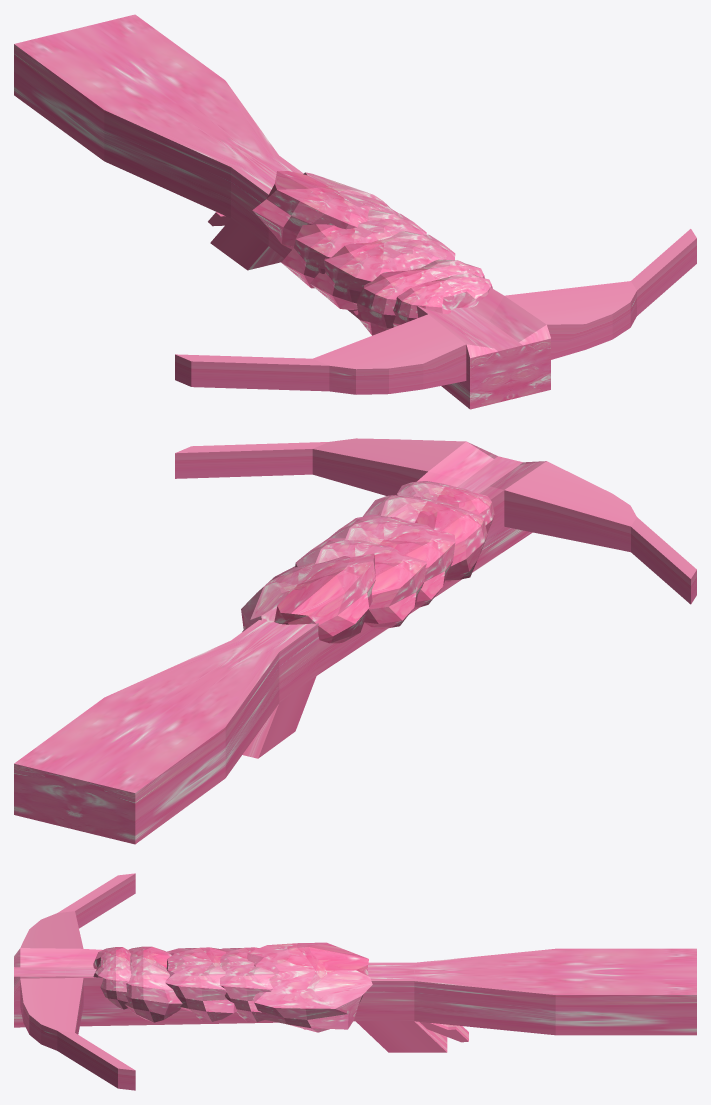
Rendered from Ballesta Slime2.fbx.
3 views of the same model, one above another, from view 1: azimuth 30°, elevation 25°; view 2: azimuth 150°, elevation 25°; view 3: azimuth 270°, elevation 25° (orthographic). The views are drawn at different scales.
Parts seen in each view (by area): view 1: Cubo; view 2: Cubo; view 3: Cubo.
Boxes of the visible parts, x1,y1,x2,y2 form: Cubo: (14,14,696,409); Cubo: (14,438,696,844); Cubo: (14,873,696,1090).
Size of the model in its own units: 1274 by 275 by 1865.
Materials: 1 (1 with a texture image).
